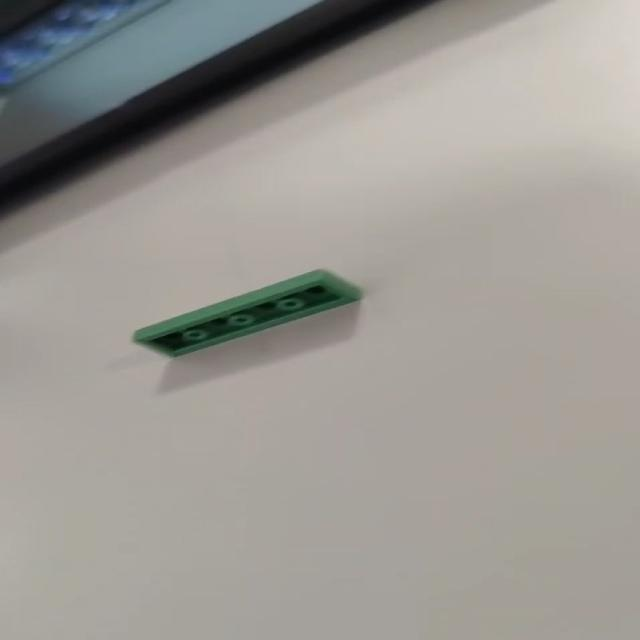C4x1x0: (123, 262, 380, 361)
